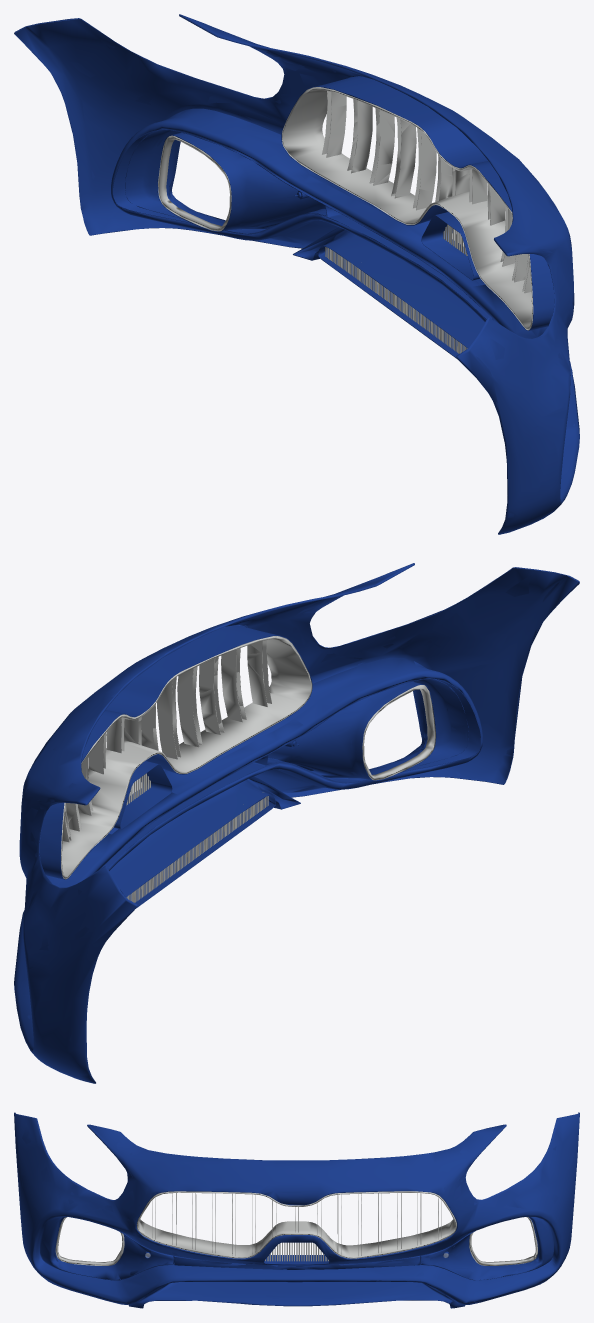
The model's file is bodyPart_bumper_front_d01.glb.
3 views of the same model, one above another, from view 1: azimuth 30°, elevation 25°; view 2: azimuth 150°, elevation 25°; view 3: azimuth 270°, elevation 25° (orthographic). The views are drawn at different scales.
Visible parts, largest first — view 1: bumperFront_01_mesh_00; view 2: bumperFront_01_mesh_00; view 3: bumperFront_01_mesh_00.
Boxes of the visible parts, bbox=[...] form: bumperFront_01_mesh_00: bbox=[14, 14, 579, 534]; bumperFront_01_mesh_00: bbox=[14, 563, 579, 1083]; bumperFront_01_mesh_00: bbox=[14, 1112, 579, 1308].
Bounding box in the file's own units: 0.6663 × 0.5997 × 2.01.
